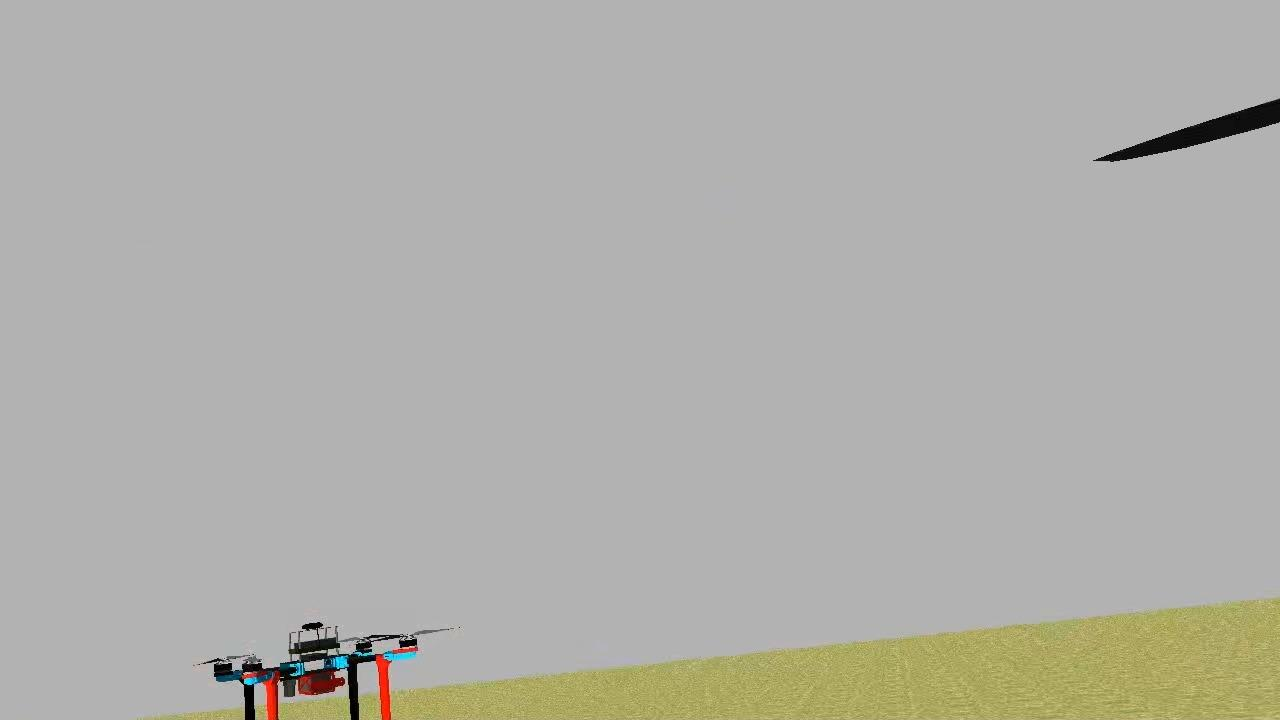UAV: (203, 610, 430, 720)
